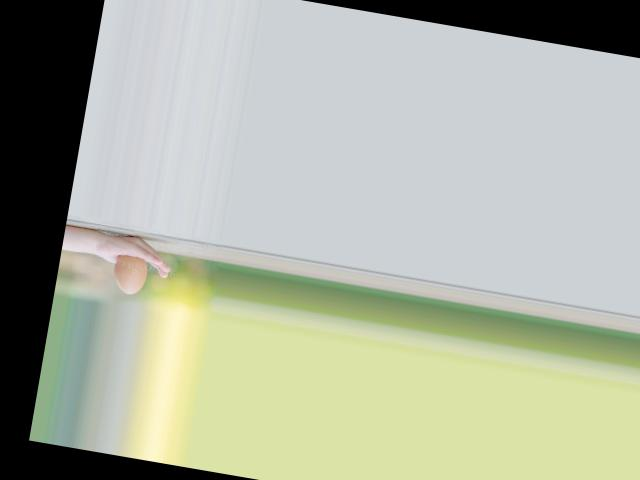egg: (109, 252, 148, 296)
